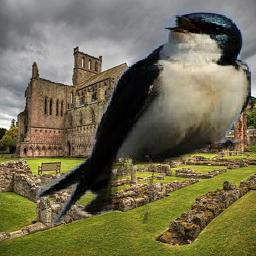Swallow: (37, 10, 252, 224)
